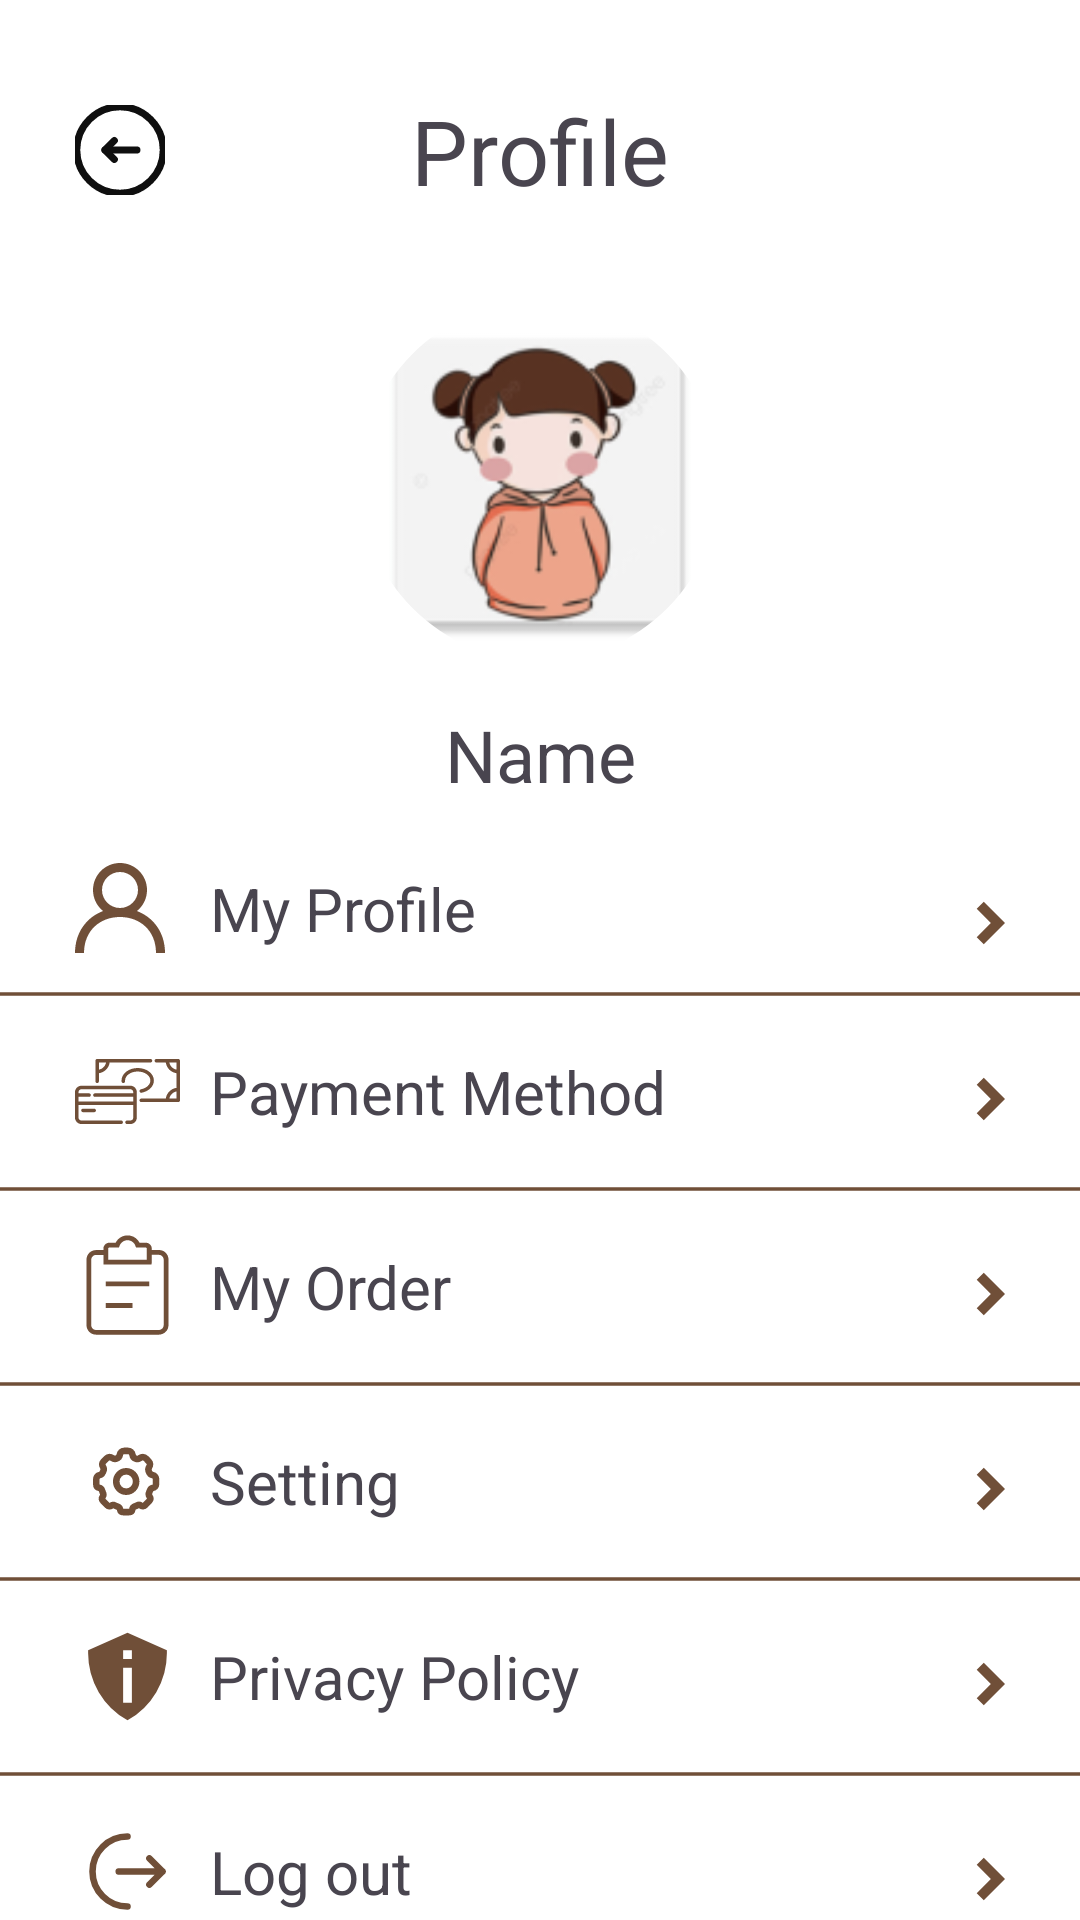

Screen size 1080 x 1920. Icon name, then its box in pixels as (x1, y1, x2, y2):
back: (75, 105, 165, 195)
